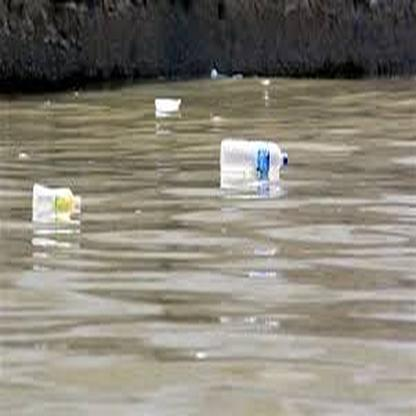plastic bottle: (219, 139, 289, 171), (31, 183, 82, 207)
